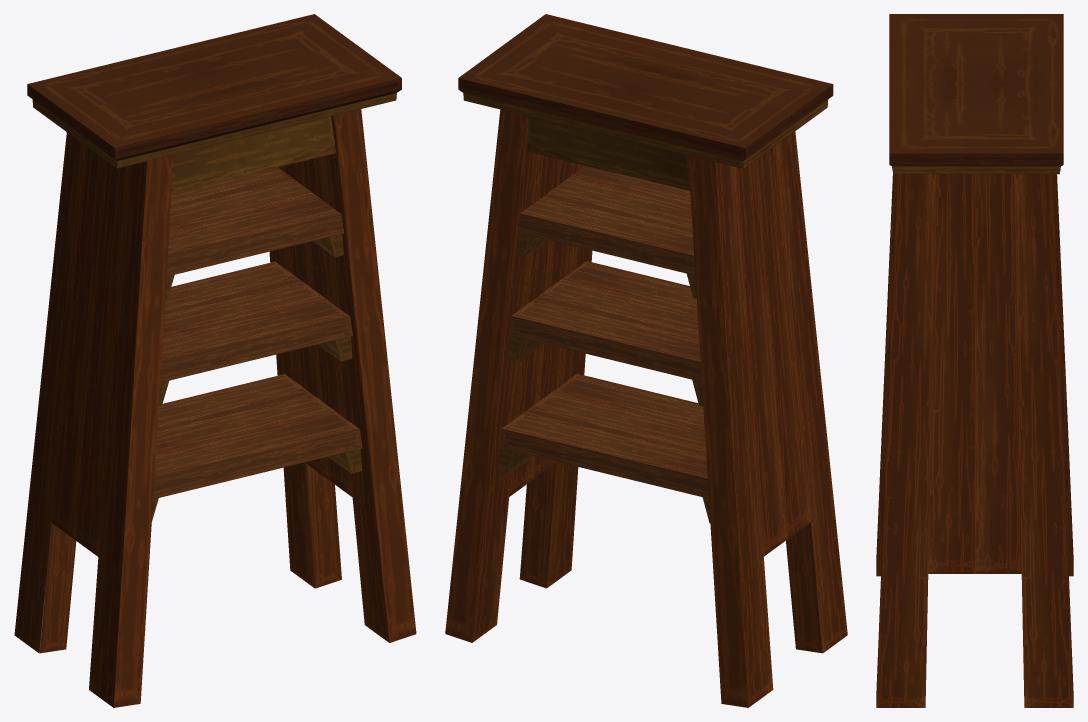
File: Nightstand_Shelf.gltf
3 views of the same model, side by side, from view 1: azimuth 30°, elevation 25°; view 2: azimuth 150°, elevation 25°; view 3: azimuth 270°, elevation 25° (orthographic).
Visible parts, largest first — view 1: Nightstand_Shelf; view 2: Nightstand_Shelf; view 3: Nightstand_Shelf.
Part boxes in pixels (box(x1,y1,x2,y2)): Nightstand_Shelf: box(14, 14, 416, 707); Nightstand_Shelf: box(445, 14, 847, 707); Nightstand_Shelf: box(876, 14, 1073, 707).
Bounding box in the file's own units: 0.6934 × 1.22 × 0.3934.
1 material, 1 textured.
